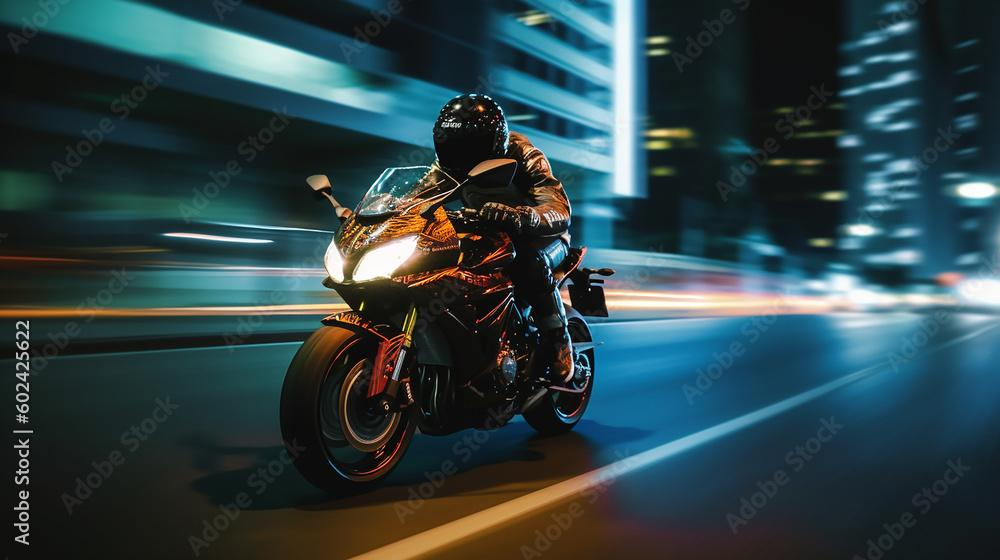helmet: (432, 93, 510, 186)
